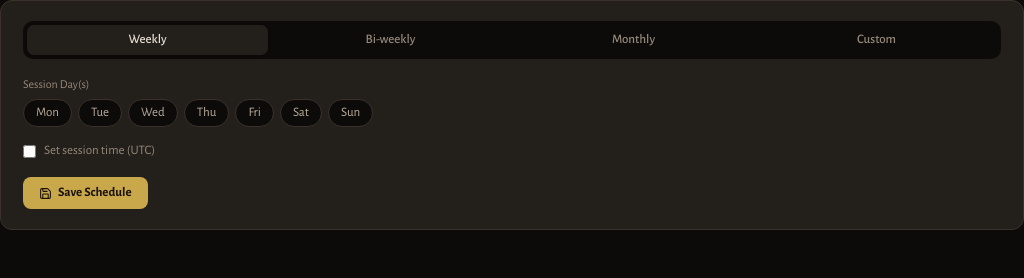
ScheduleEditor › switches to custom date mode and shows date adder
Click the button "Custom".
click(876, 40)  # box x1=756 y1=25 x2=997 y2=55
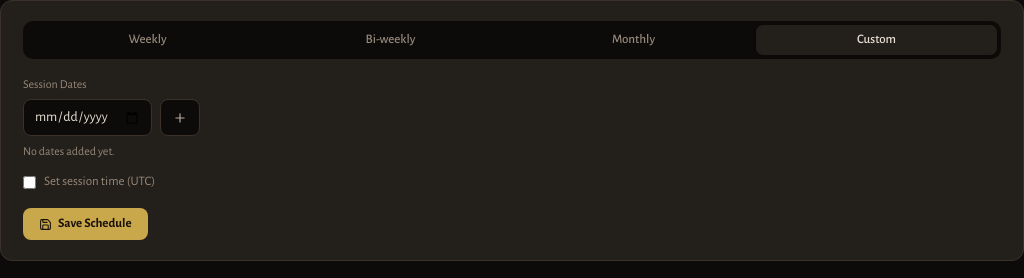
Expected: the text "Session Dates" is shown, x1=23 y1=78 x2=87 y2=90
Expected: the text "No dates added yet." is shown, x1=23 y1=145 x2=115 y2=157
